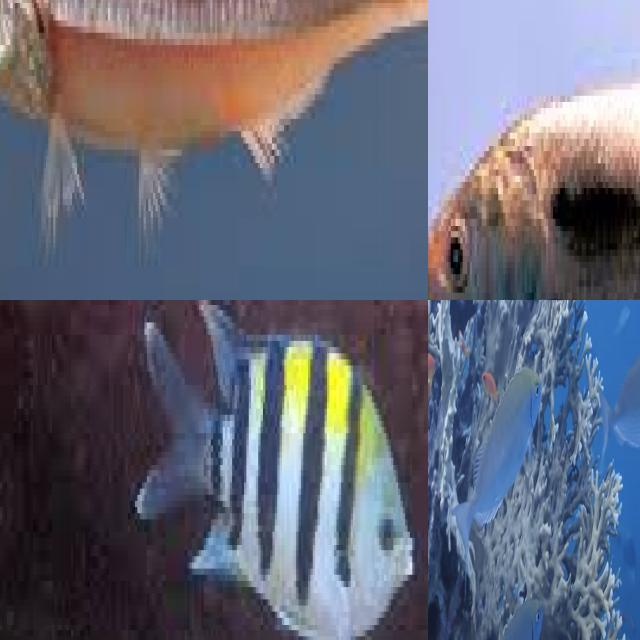fish: (0, 0, 428, 300), (120, 300, 424, 640), (462, 0, 640, 300)
